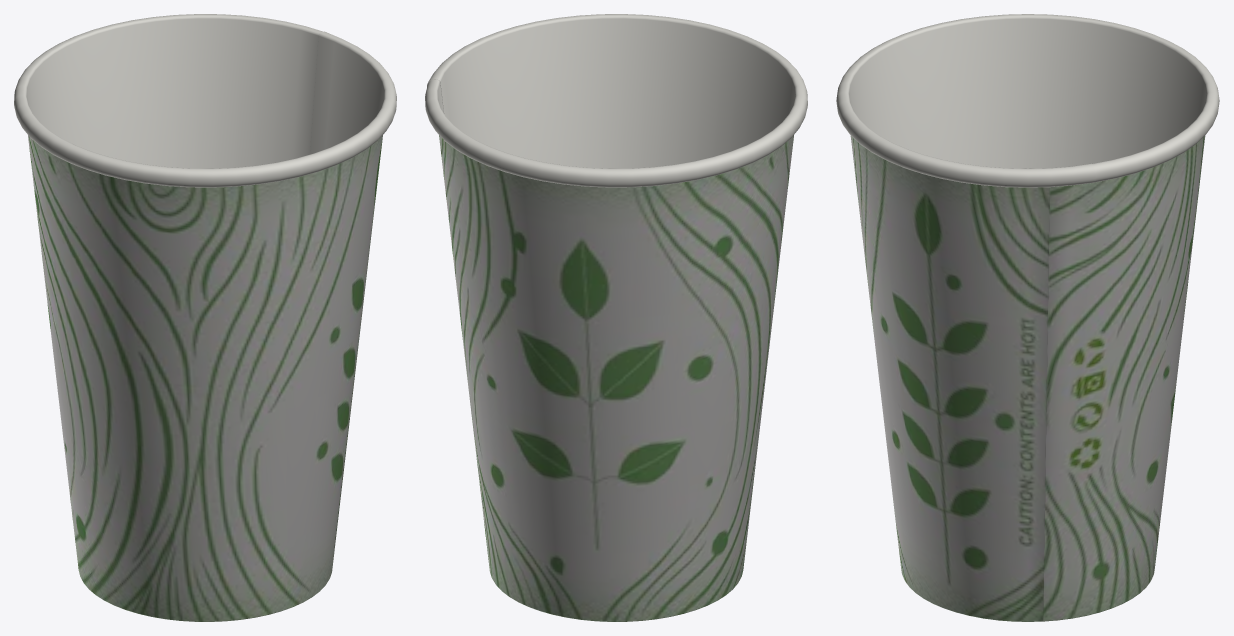
Rendered from dishware_cup_paper_a01.glb.
3 views of the same model, side by side, from view 1: azimuth 30°, elevation 25°; view 2: azimuth 150°, elevation 25°; view 3: azimuth 270°, elevation 25° (orthographic).
Visible parts, largest first — view 1: part0; view 2: part0; view 3: part0.
Part boxes in pixels (x1,y1,x2,y2): part0: (14, 14, 396, 621); part0: (425, 14, 807, 621); part0: (836, 14, 1219, 621).
Bounding box in the file's own units: 0.0801 × 0.1099 × 0.0801.
1 material, 1 textured.
